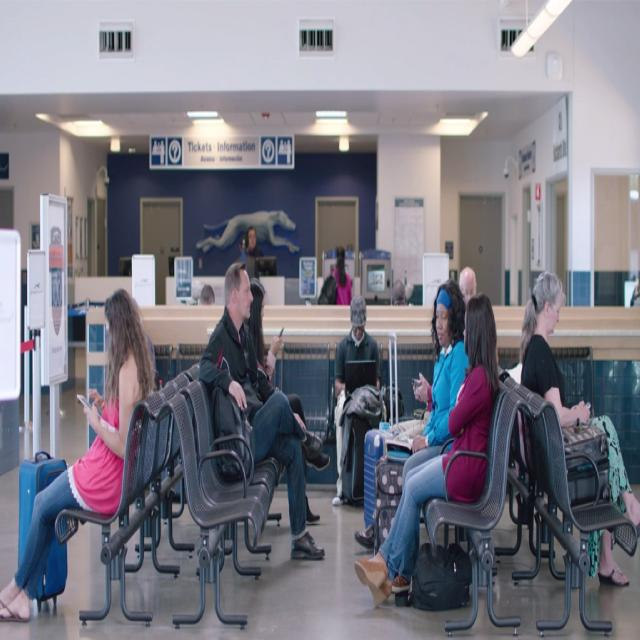body: (0, 283, 156, 627), (350, 286, 500, 614), (195, 257, 327, 564), (519, 262, 639, 590), (381, 279, 470, 594), (245, 276, 332, 522), (331, 291, 382, 510), (316, 244, 352, 306), (236, 224, 261, 273), (410, 368, 432, 421), (352, 510, 377, 554), (312, 274, 339, 310), (458, 265, 478, 311), (392, 276, 417, 308), (194, 280, 216, 308)
